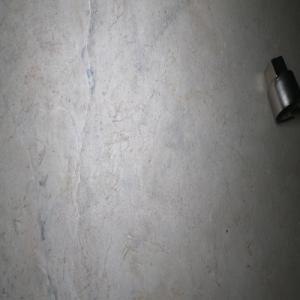MetalPart: (263, 54, 300, 122)
